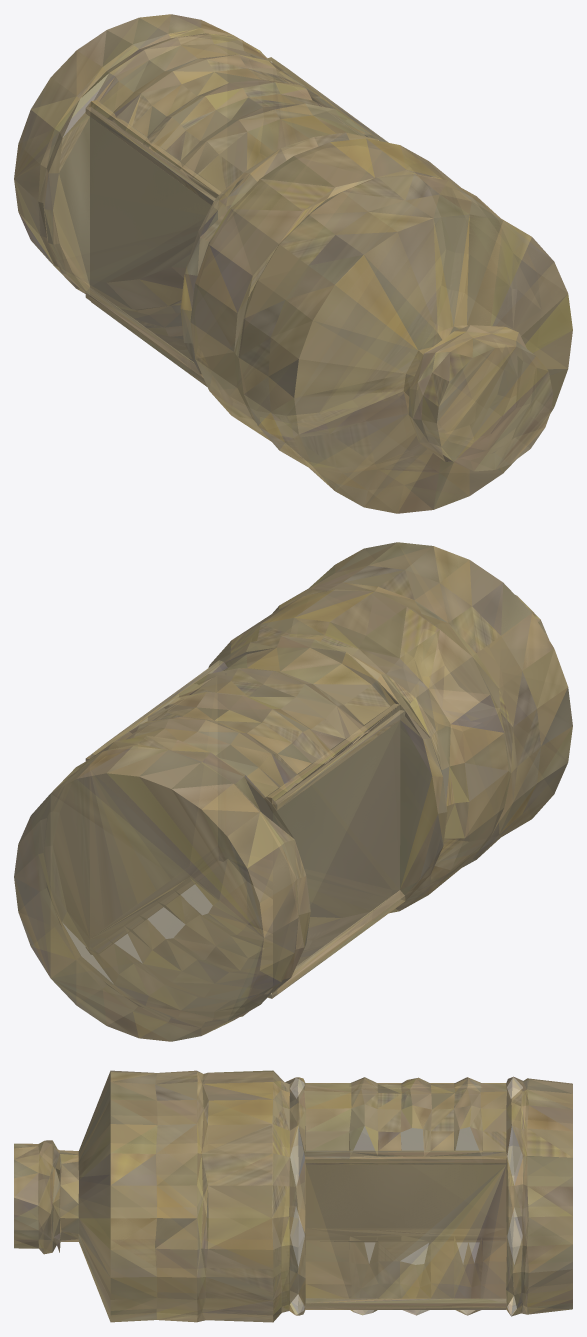
Rendered from model_align.obj.
The picture shows the model from 3 angles, top to bottom: view 1: azimuth 30°, elevation 25°; view 2: azimuth 150°, elevation 25°; view 3: azimuth 270°, elevation 25°; orthographic projection. The views are drawn at different scales.
Bounding box in the file's own units: 0.1122 × 0.1122 × 0.2482.
